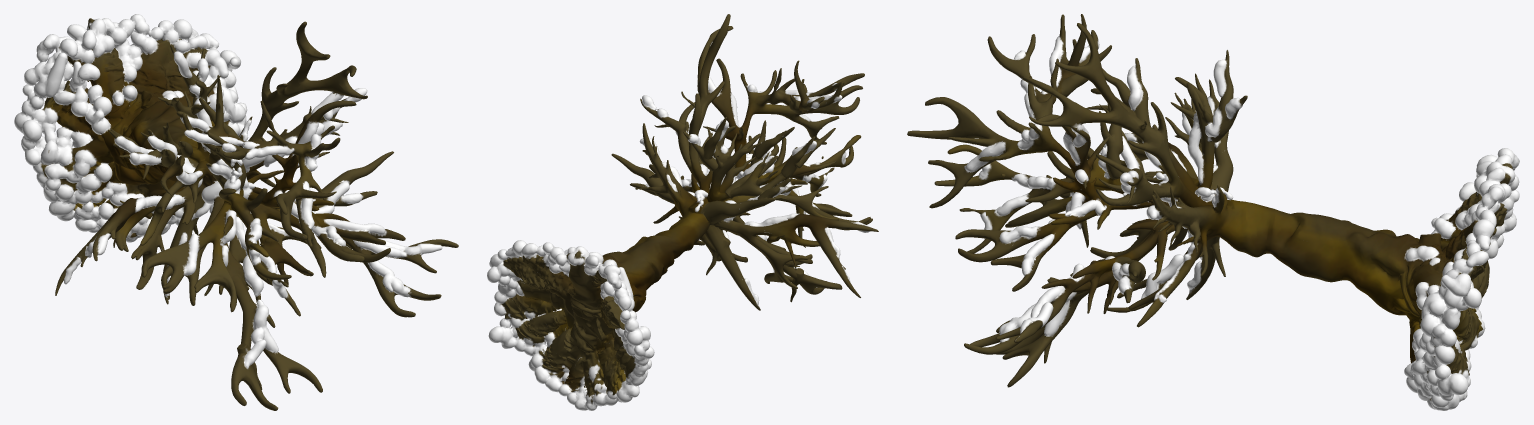
File: snowtree.fbx
The picture shows the model from 3 angles, left to right: view 1: azimuth 30°, elevation 25°; view 2: azimuth 150°, elevation 25°; view 3: azimuth 270°, elevation 25°; orthographic projection. The views are drawn at different scales.
Visible parts, largest first — view 1: Layer_1; view 2: Layer_1; view 3: Layer_1.
Boxes of the visible parts, x1,y1,x2,y2 form: Layer_1: (14, 14, 458, 410); Layer_1: (487, 14, 878, 410); Layer_1: (907, 14, 1519, 410).
Size of the model in its own units: 3.75 by 5.57 by 3.78.
